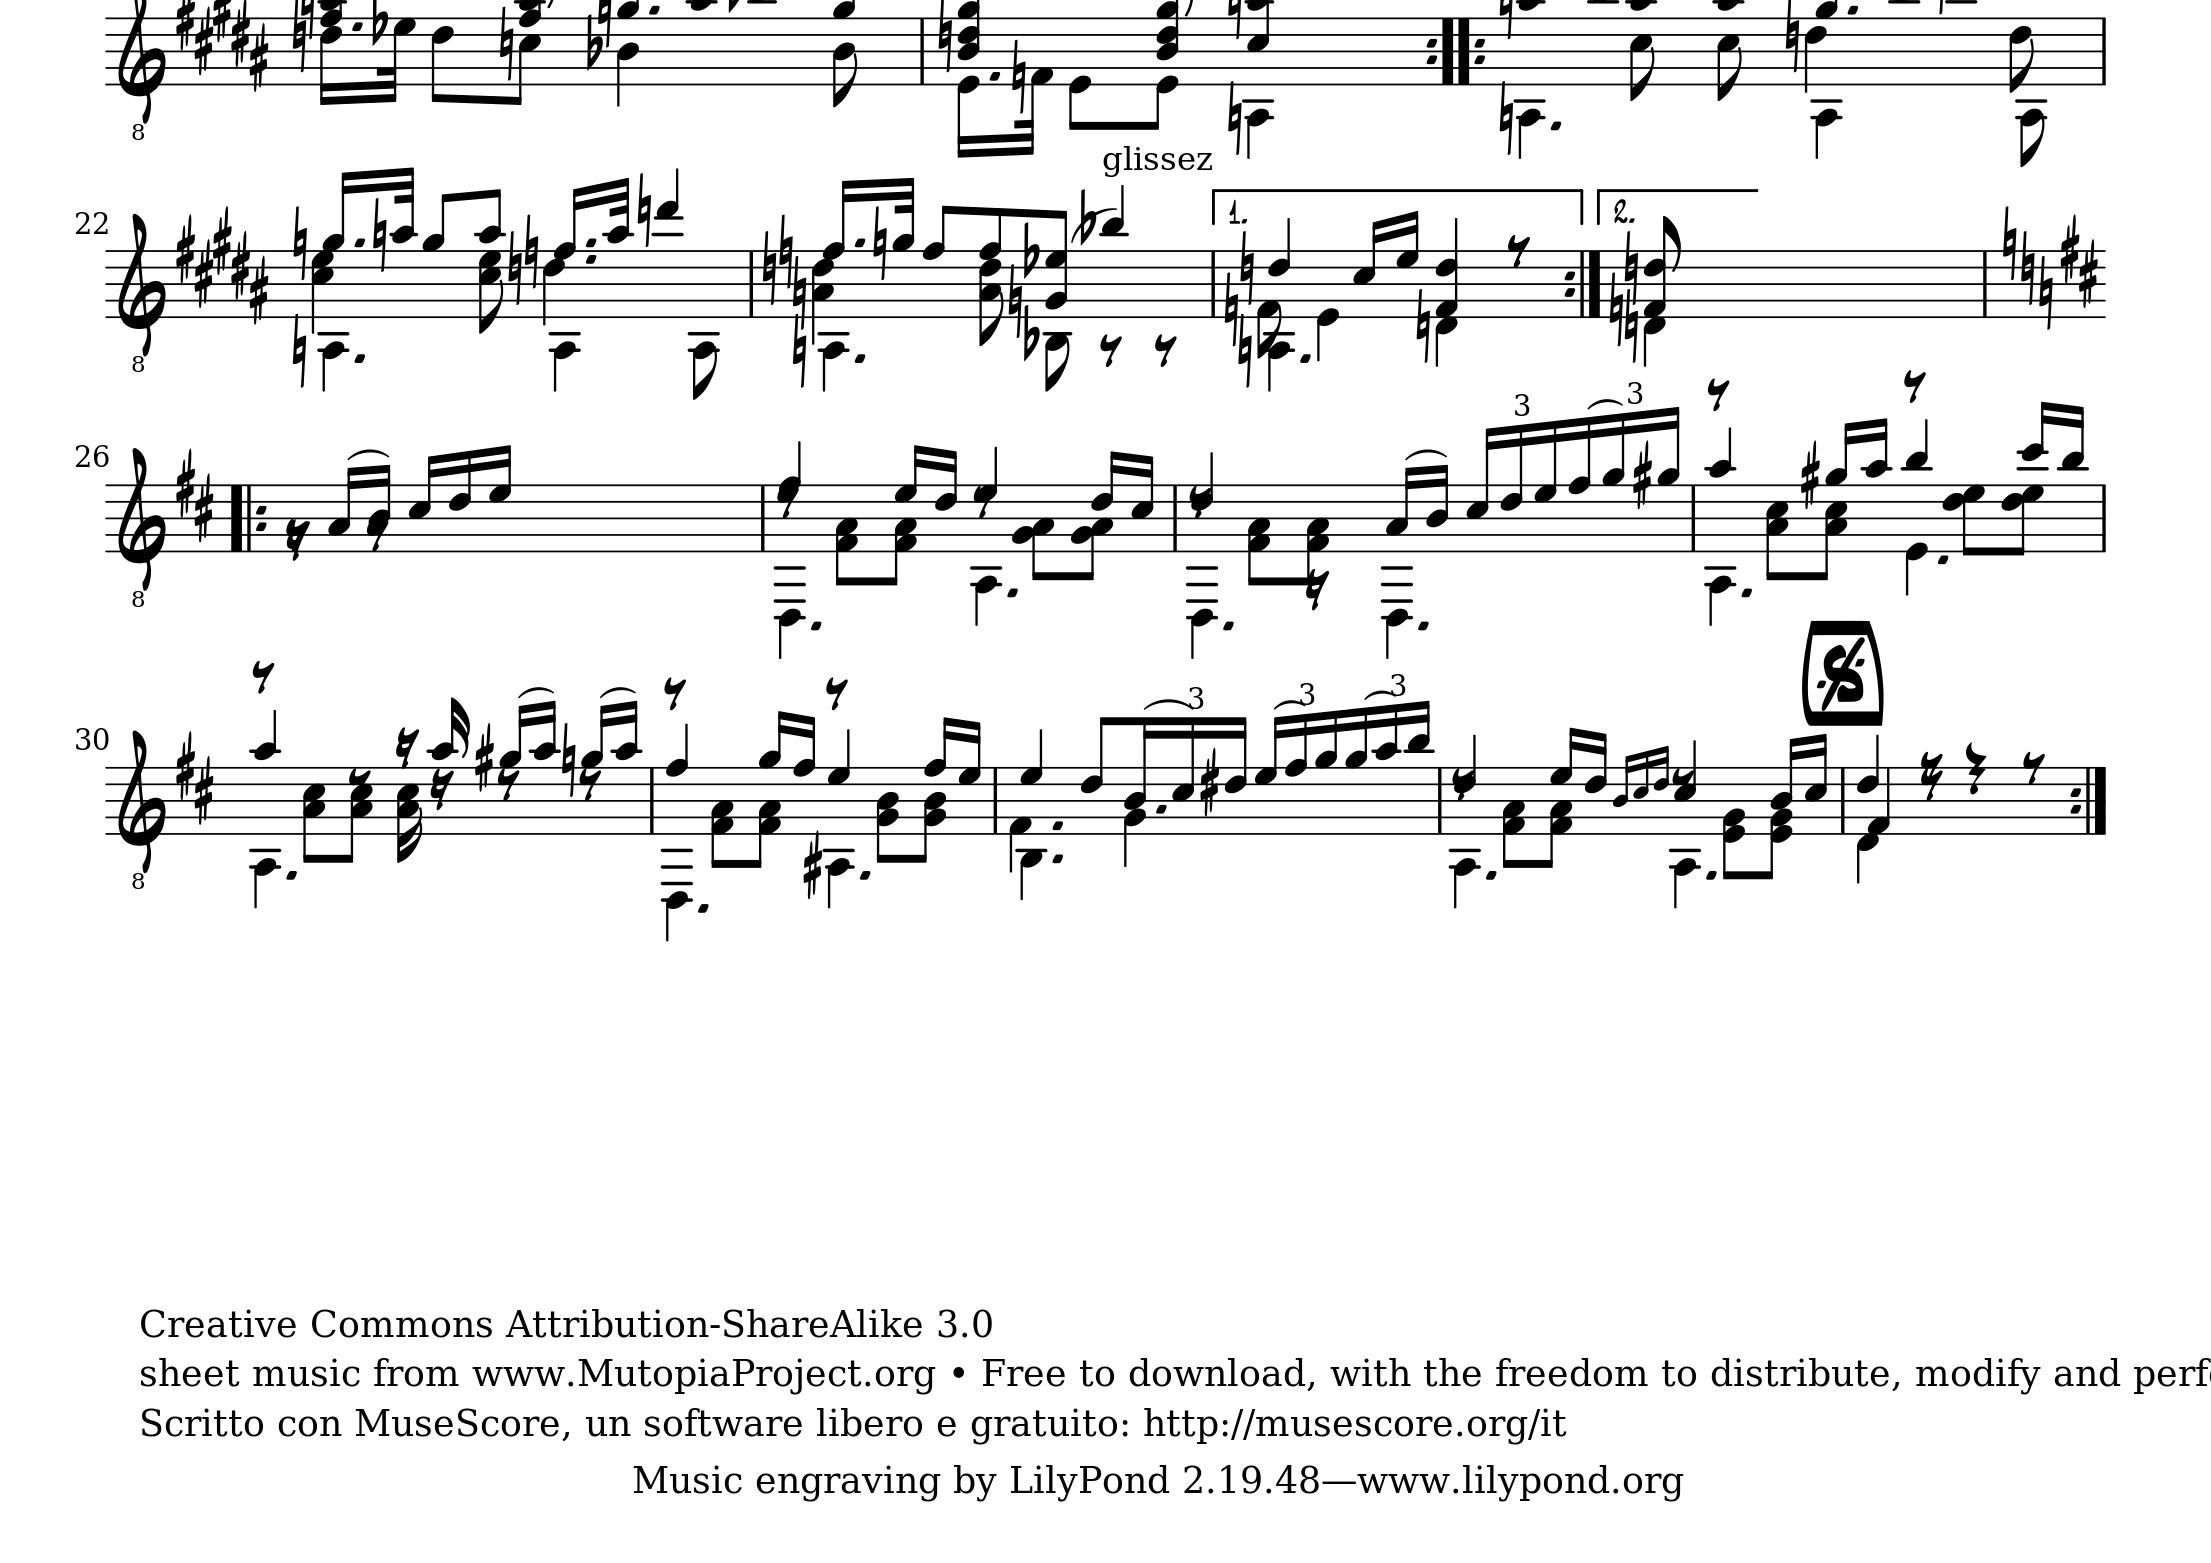0: (91, 722, 108, 751)
16_10: (612, 697, 641, 836), (1863, 414, 1890, 551), (1374, 704, 1401, 834), (531, 697, 557, 836)
16_11: (2059, 399, 2086, 555), (1404, 699, 1431, 836)
16_3: (1384, 463, 1418, 551), (326, 463, 359, 555)
16_3_5: (394, 766, 426, 863)
16_4: (365, 462, 392, 555), (1424, 462, 1450, 553)
16_5: (1463, 425, 1495, 553), (1352, 217, 1384, 316), (408, 452, 440, 551), (1171, 716, 1196, 837), (1803, 732, 1829, 836), (1130, 452, 1154, 553)
16_6: (1499, 421, 1524, 553), (1223, 714, 1248, 836), (447, 448, 474, 553), (934, 447, 959, 555), (1583, 729, 1609, 836)
16_7: (1533, 418, 1558, 555), (1254, 714, 1282, 834), (487, 441, 513, 555), (957, 717, 981, 836), (827, 727, 853, 836), (1396, 206, 1419, 316)
16_8: (1566, 413, 1592, 555), (792, 710, 817, 837), (1284, 714, 1308, 832)
16_9: (1656, 404, 1682, 558), (1600, 411, 1626, 555), (1343, 705, 1369, 836), (1314, 709, 1340, 834)
2: (73, 441, 91, 469), (73, 210, 91, 235), (91, 210, 108, 237)
3: (1298, 678, 1316, 707), (1512, 391, 1531, 418), (1626, 379, 1643, 406), (1391, 672, 1407, 699), (1188, 683, 1204, 710), (74, 724, 90, 749)
32_1: (1022, 10, 1056, 156)
32_10: (387, 166, 416, 321), (604, 173, 633, 321)
32_7: (377, 12, 416, 103)
32_9: (890, 176, 915, 320)
4_0: (1901, 480, 1928, 597), (1314, 249, 1340, 364)
4_10: (1707, 426, 1734, 557), (252, 709, 279, 837)
4_11: (1100, 181, 1127, 318)
4_13: (651, 166, 682, 320)
4_8: (665, 721, 690, 836)
6: (91, 440, 110, 470)
8_-4: (687, 249, 721, 398)
8_0: (1067, 14, 1093, 132)
8_0_2: (1720, 765, 1747, 881)
8_1_3: (1296, 482, 1331, 585), (749, 766, 782, 868), (709, 765, 738, 871), (834, 484, 861, 589), (1247, 484, 1274, 587), (1501, 765, 1524, 868)
8_2_3: (1012, 484, 1057, 580)
8_2_4: (875, 765, 900, 866)
8_3_5: (340, 766, 372, 866), (1819, 484, 1849, 582), (1764, 480, 1791, 584), (301, 766, 326, 868)
8_4: (832, 15, 858, 112)
8_5: (1715, 14, 1742, 103), (1629, 14, 1654, 101)
8_6: (1078, 714, 1113, 837), (430, 14, 453, 105), (2010, 14, 2033, 95)
8_7_8: (1998, 484, 2044, 557), (1944, 482, 1984, 557)
8_8: (920, 205, 954, 318)
8_9: (421, 188, 452, 318)
B_S: (178, 206, 267, 325), (176, 2, 269, 95)
D_S: (174, 445, 215, 540), (176, 729, 215, 824)
Flat: (584, 3, 606, 73), (1073, 186, 1095, 247), (1022, 220, 1040, 277), (1022, 303, 1039, 362), (369, 2, 387, 47)
LeftRepeatSign: (228, 482, 267, 551)
Lower_Gclef: (115, 210, 167, 374), (115, 445, 167, 609), (115, 731, 167, 891), (117, 2, 167, 140)
Natural: (1413, 286, 1433, 364), (1495, 80, 1516, 156), (870, 205, 890, 281), (289, 310, 308, 391), (291, 201, 310, 282), (1607, 271, 1626, 352), (523, 211, 540, 298), (2037, 254, 2055, 332), (496, 3, 514, 80), (1225, 80, 1243, 156), (558, 721, 577, 797), (506, 223, 523, 306), (291, 2, 310, 74), (935, 2, 954, 74), (2001, 203, 2018, 282), (1783, 2, 1802, 73), (790, 311, 807, 389), (1238, 228, 1255, 306), (370, 196, 387, 272), (634, 171, 651, 245), (1221, 269, 1238, 343), (1237, 313, 1254, 387), (1622, 282, 1639, 357), (1010, 37, 1027, 108), (1008, 264, 1023, 340), (2020, 228, 2035, 304)
Rests16: (1303, 563, 1331, 611), (283, 514, 310, 563), (430, 766, 452, 810)
Rests4: (1962, 738, 1988, 797), (1918, 749, 1945, 803), (392, 724, 420, 766)
Rests8: (1096, 332, 1123, 369), (1152, 332, 1179, 369), (1901, 365, 1928, 403), (661, 673, 689, 710), (822, 673, 849, 710), (250, 658, 277, 694), (2020, 748, 2047, 783), (1506, 232, 1531, 267), (1705, 376, 1731, 411), (579, 770, 602, 802), (497, 770, 519, 802)
RightAndLeftRepeatSign: (1423, 15, 1485, 85)
RightRepeatSign: (1561, 249, 1605, 316), (2067, 765, 2108, 834)
Segno: (1813, 638, 1869, 707)
Sharp: (1797, 438, 1820, 511), (1631, 441, 1654, 509), (474, 722, 496, 793), (800, 832, 824, 898), (1198, 749, 1220, 815)
Single_barline: (2094, 17, 2111, 83), (1204, 250, 1221, 315), (754, 485, 771, 550), (913, 19, 930, 81), (986, 768, 1003, 831), (2096, 484, 2111, 551), (645, 766, 660, 832), (1433, 766, 1448, 832), (1978, 250, 1993, 315), (744, 250, 760, 315), (1167, 485, 1182, 550), (1685, 485, 1700, 550), (1835, 768, 1851, 831)
Slur: (1142, 695, 1193, 710), (347, 447, 391, 462), (1406, 447, 1446, 462), (518, 683, 555, 699), (599, 683, 634, 699), (1587, 398, 1626, 409), (1362, 688, 1394, 700), (1272, 699, 1303, 710)
dot: (1546, 117, 1565, 134), (1003, 582, 1022, 599), (807, 616, 824, 633), (348, 19, 365, 34), (851, 233, 868, 249), (350, 348, 367, 364), (853, 348, 870, 364), (858, 864, 873, 881), (986, 68, 1005, 81), (1739, 584, 1754, 599), (1051, 817, 1066, 832), (1051, 849, 1066, 864), (1484, 864, 1499, 880), (695, 898, 710, 913), (645, 2, 661, 15), (1298, 350, 1314, 364), (1221, 616, 1235, 633), (1416, 616, 1429, 633), (283, 866, 299, 880), (1846, 2, 1861, 15), (352, 235, 367, 249), (582, 250, 597, 264), (1935, 550, 1950, 563), (1704, 866, 1719, 880), (1154, 802, 1169, 814)
